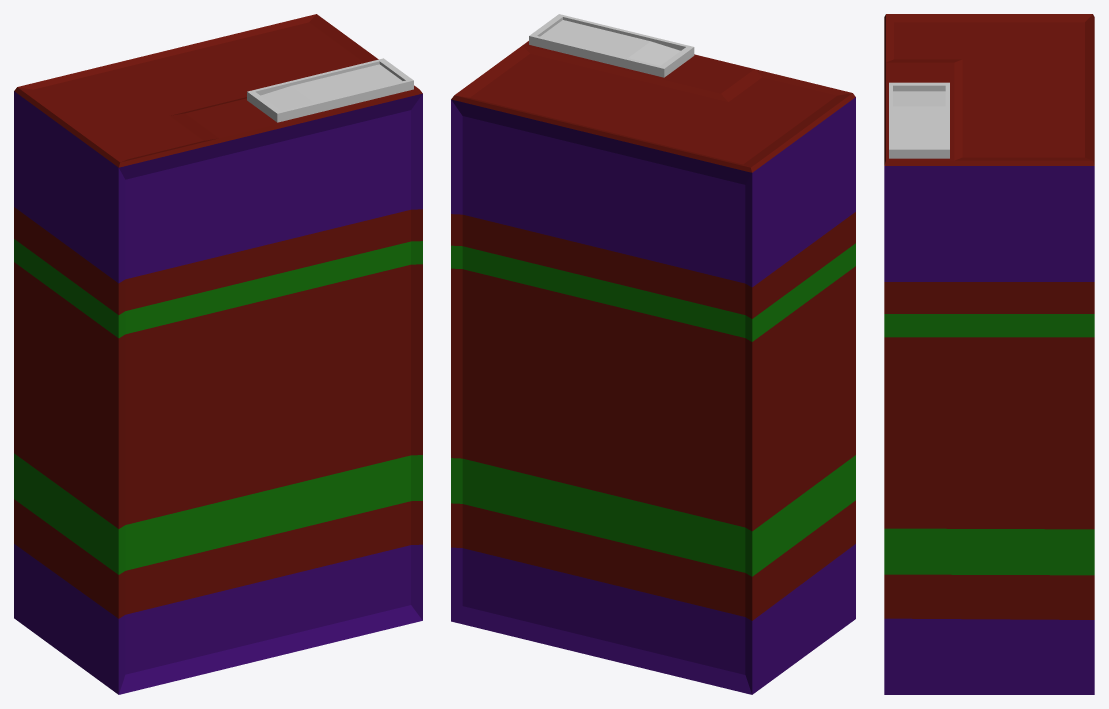
File: Juice Carton Fruit Punch.fbx
3 views of the same model, side by side, from view 1: azimuth 30°, elevation 25°; view 2: azimuth 150°, elevation 25°; view 3: azimuth 270°, elevation 25° (orthographic).
Parts seen in each view (by area): view 1: Juice Carton Fruit Punch; view 2: Juice Carton Fruit Punch; view 3: Juice Carton Fruit Punch.
Part boxes in pixels (x1,y1,x2,y2): Juice Carton Fruit Punch: (14, 14, 422, 694); Juice Carton Fruit Punch: (451, 14, 855, 694); Juice Carton Fruit Punch: (884, 14, 1094, 694).
Size of the model in its own units: 22.17 by 37.63 by 13.22.
Materials: 1 (1 with a texture image).
